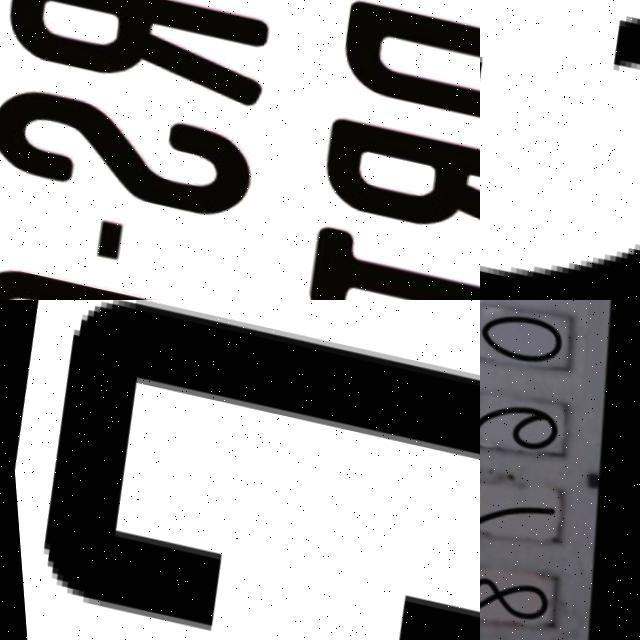0: (480, 300, 567, 374)
5: (480, 0, 640, 300)
6: (480, 378, 562, 461)
7: (480, 467, 556, 545)
8: (480, 553, 549, 629)
C: (0, 300, 480, 640), (0, 258, 231, 300)
D: (330, 0, 480, 145)
R: (0, 0, 280, 108), (307, 110, 480, 261)
S: (0, 80, 254, 222)
T: (289, 221, 480, 300)
